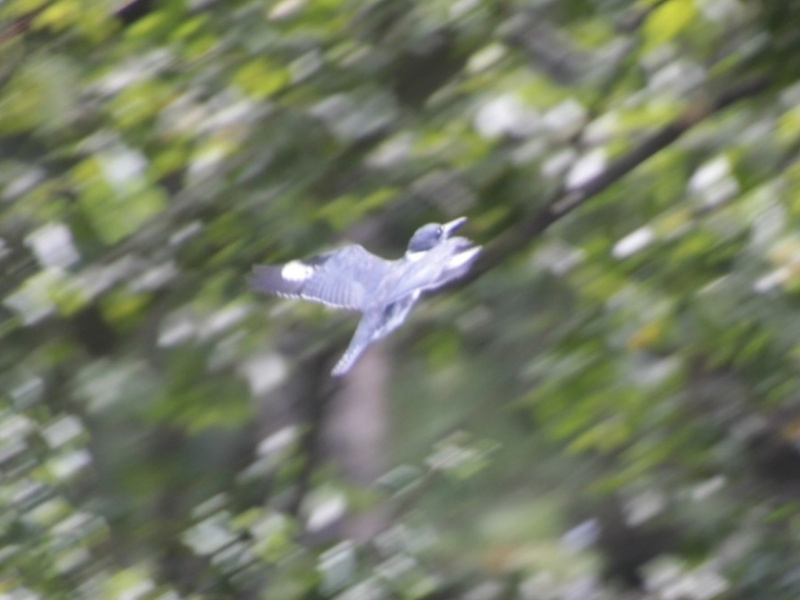kingfisher: (244, 208, 478, 384)
